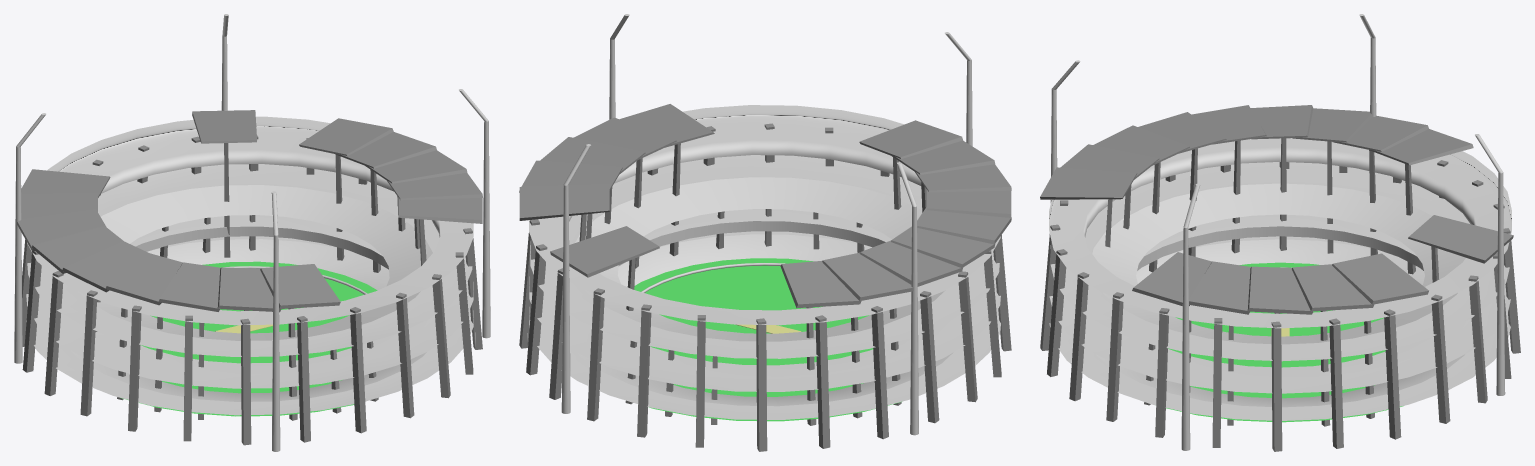
The model's file is Wankhede.glb.
3 renders of one model, left to right at view 1: azimuth 30°, elevation 25°; view 2: azimuth 150°, elevation 25°; view 3: azimuth 270°, elevation 25°, orthographic. The views are drawn at different scales.
Parts seen in each view (by area): view 1: Stadium_Stands_Outer, Stadium_Top, Stadium_Stands.001, Stadium_Stands.002, Stadium_Stands.003, Floodlights, Stadium_Field; view 2: Stadium_Stands_Outer, Stadium_Top, Stadium_Stands.001, Stadium_Stands.002, Stadium_Field, Stadium_Stands.003, Floodlights, Stadium_Boundary; view 3: Stadium_Stands_Outer, Stadium_Top, Stadium_Stands.001, Stadium_Stands.002, Stadium_Stands.003, Floodlights, Stadium_Field.
Boxes of the visible parts, left/top/right/bottom form: Stadium_Stands_Outer: left=22, top=116, right=482, bottom=445; Stadium_Top: left=17, top=110, right=482, bottom=312; Stadium_Stands.001: left=27, top=164, right=472, bottom=356; Stadium_Stands.002: left=26, top=215, right=473, bottom=388; Stadium_Stands.003: left=26, top=236, right=473, bottom=415; Floodlights: left=14, top=14, right=490, bottom=451; Stadium_Field: left=120, top=261, right=377, bottom=416; Stadium_Stands_Outer: left=519, top=105, right=1011, bottom=451; Stadium_Top: left=519, top=104, right=1011, bottom=308; Stadium_Stands.001: left=530, top=155, right=999, bottom=358; Stadium_Stands.002: left=529, top=209, right=1000, bottom=391; Stadium_Field: left=634, top=258, right=901, bottom=421; Stadium_Stands.003: left=529, top=231, right=1000, bottom=419; Floodlights: left=561, top=14, right=972, bottom=435; Stadium_Boundary: left=641, top=262, right=785, bottom=292; Stadium_Stands_Outer: left=1040, top=138, right=1520, bottom=451; Stadium_Top: left=1040, top=105, right=1513, bottom=314; Stadium_Stands.001: left=1050, top=162, right=1509, bottom=361; Stadium_Stands.002: left=1049, top=214, right=1510, bottom=393; Stadium_Stands.003: left=1049, top=236, right=1510, bottom=420; Floodlights: left=1050, top=14, right=1505, bottom=450; Stadium_Field: left=1166, top=262, right=1403, bottom=422.
Bounding box in the file's own units: 2.06 × 1.2 × 2.06.
